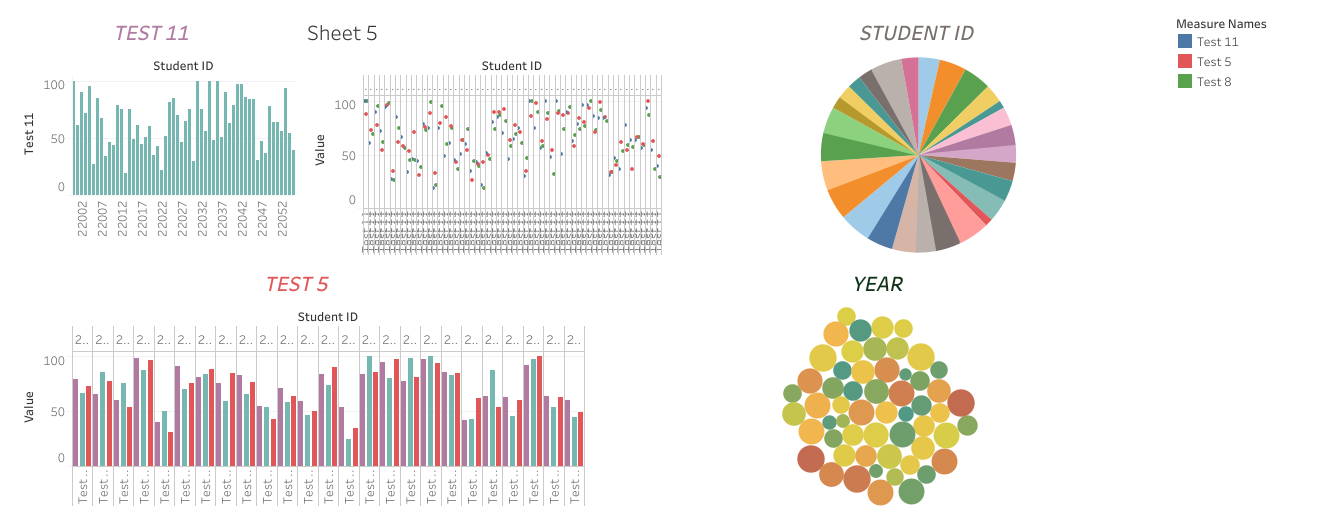

This screenshot's page, from the dashboard's own definition file:
{"tool":"tableau","page":{"name":"Dashboard 1","canvas":[1000,1000],"units":"permille","ordinal":0},"visuals":[{"type":"worksheet","title":"Sheet 5","mark":"Automatic","rows":["PassengerId"],"cols":["C2!train.gender!submission_F1020222B0D54C6C8599BEF11F0F0E5B","Age","Fare","Parch","Pclass","SibSp","Survived"],"box":[6.9,13.5,492.6,486.5]},{"type":"worksheet","title":"Sheet 2","mark":"Automatic","box":[499.6,13.5,309.1,486.5]},{"type":"legend","title":"Sheet 3","param":"[federated.0jr00f81rj9sje1fmwvio0enf90m].[sum:Survived:qk]","box":[808.6,13.5,184.4,77.7]},{"type":"filter","title":"Sheet 1","param":"[federated.0jr00f81rj9sje1fmwvio0enf90m].[none:PassengerId:ok]","box":[808.6,91.2,184.4,179.1]},{"type":"filter","title":"Sheet 4","param":"[federated.0jr00f81rj9sje1fmwvio0enf90m].[none:PassengerId:ok]","box":[808.6,270.3,184.4,179.1]},{"type":"filter","title":"Sheet 5","param":"[federated.0jr00f81rj9sje1fmwvio0enf90m].[none:PassengerId:ok]","box":[808.6,449.3,184.4,179.1]},{"type":"worksheet","title":"Sheet 3","mark":"Pie","box":[6.9,500,326.4,486.5]},{"type":"worksheet","title":"Sheet 1","mark":"Circle","box":[333.3,500,279.7,486.5]},{"type":"worksheet","title":"Sheet 4","mark":"Automatic","rows":["Parch"],"box":[613,500,195.7,486.5]},{"type":"filter","title":"Sheet 2","param":"[federated.0jr00f81rj9sje1fmwvio0enf90m].[none:PassengerId:ok]","box":[808.6,628.4,184.4,179.1]},{"type":"filter","title":"Sheet 3","param":"[federated.0jr00f81rj9sje1fmwvio0enf90m].[none:PassengerId:ok]","box":[808.6,807.4,184.4,179.1]}]}

Visuals, with their boxes on the dashboard's canvas, which has no fixed pixel size, in thousandths of its width and height (x1, y1, x2, y2). These are canvas units, not pixel positions in the 1338x517 screenshot, which may show the page scaled, cropped or inside an application window:
"Sheet 5" worksheet: {"x1": 7, "y1": 14, "x2": 500, "y2": 500}
"Sheet 2" worksheet: {"x1": 500, "y1": 14, "x2": 809, "y2": 500}
"Sheet 3" legend: {"x1": 809, "y1": 14, "x2": 993, "y2": 91}
"Sheet 1" filter: {"x1": 809, "y1": 91, "x2": 993, "y2": 270}
"Sheet 4" filter: {"x1": 809, "y1": 270, "x2": 993, "y2": 449}
"Sheet 5" filter: {"x1": 809, "y1": 449, "x2": 993, "y2": 628}
"Sheet 3" worksheet (Pie marks): {"x1": 7, "y1": 500, "x2": 333, "y2": 986}
"Sheet 1" worksheet (Circle marks): {"x1": 333, "y1": 500, "x2": 613, "y2": 986}
"Sheet 4" worksheet: {"x1": 613, "y1": 500, "x2": 809, "y2": 986}
"Sheet 2" filter: {"x1": 809, "y1": 628, "x2": 993, "y2": 808}
"Sheet 3" filter: {"x1": 809, "y1": 807, "x2": 993, "y2": 986}
